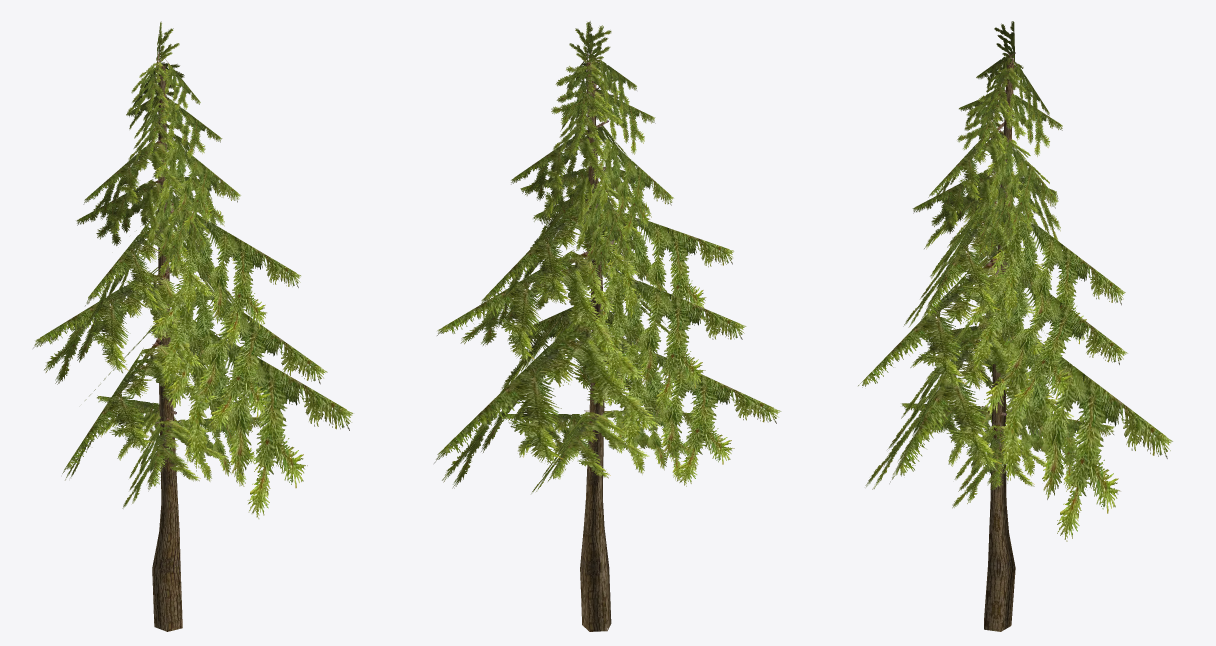
The model's file is tallpine.fbx.
3 views of the same model, side by side, from view 1: azimuth 30°, elevation 25°; view 2: azimuth 150°, elevation 25°; view 3: azimuth 270°, elevation 25° (orthographic). The views are drawn at different scales.
Visible parts, largest first — view 1: Tree_Pine_T2; view 2: Tree_Pine_T2; view 3: Tree_Pine_T2.
Part boxes in pixels (x1,y1,x2,y2): Tree_Pine_T2: [33, 21, 353, 631]; Tree_Pine_T2: [434, 21, 781, 631]; Tree_Pine_T2: [858, 21, 1172, 631].
Bounding box in the file's own units: 997 × 1792 × 967.
Materials: 1 (1 with a texture image).
